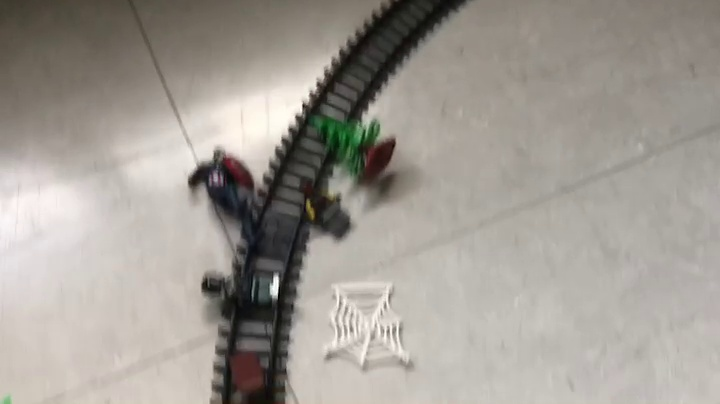box: (229, 354, 271, 398)
people: (190, 147, 270, 250), (199, 269, 284, 316), (298, 181, 353, 242)
web: (322, 281, 413, 369)
